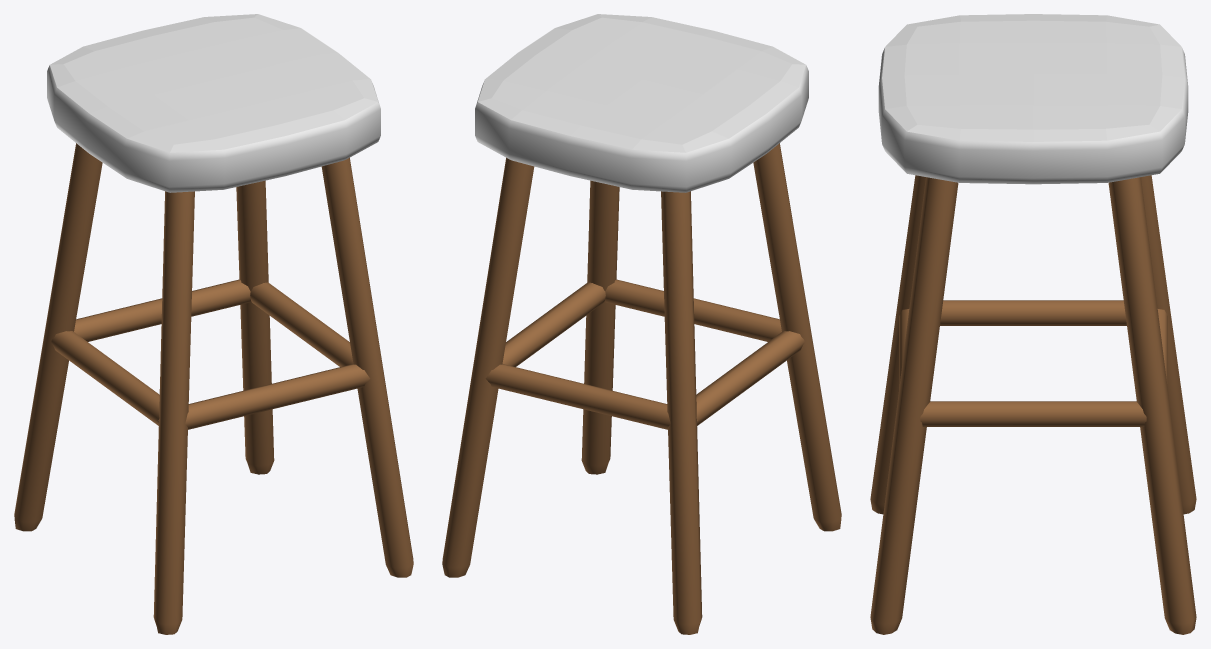
The model's file is Square_Wooden_Bench.fbx.
The picture shows the model from 3 angles, left to right: view 1: azimuth 30°, elevation 25°; view 2: azimuth 150°, elevation 25°; view 3: azimuth 270°, elevation 25°; orthographic projection. The views are drawn at different scales.
Visible parts, largest first — view 1: Square_Wooden_Bench; view 2: Square_Wooden_Bench; view 3: Square_Wooden_Bench.
Part boxes in pixels (x1=…): Square_Wooden_Bench: x1=14, y1=14, x2=413, y2=634; Square_Wooden_Bench: x1=442, y1=14, x2=841, y2=634; Square_Wooden_Bench: x1=870, y1=14, x2=1196, y2=634.
Bounding box in the file's own units: 24.42 × 42.64 × 25.42.
